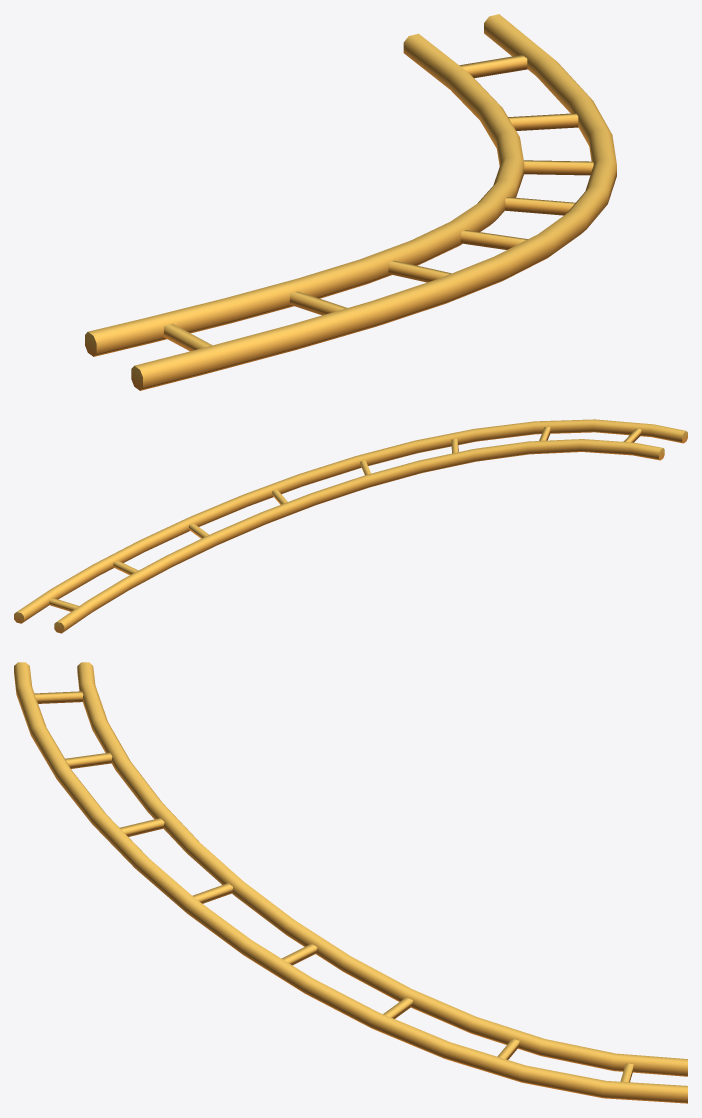
The model's file is coaster-mouse-corner-large-ramp.glb.
3 views of the same model, one above another, from view 1: azimuth 30°, elevation 25°; view 2: azimuth 150°, elevation 25°; view 3: azimuth 270°, elevation 25° (orthographic). The views are drawn at different scales.
Visible parts, largest first — view 1: coaster-mouse-corner-large-ramp; view 2: coaster-mouse-corner-large-ramp; view 3: coaster-mouse-corner-large-ramp.
Part boxes in pixels (x1,y1,x2,y2): coaster-mouse-corner-large-ramp: (85, 14, 616, 390); coaster-mouse-corner-large-ramp: (14, 419, 687, 633); coaster-mouse-corner-large-ramp: (14, 662, 687, 1103).
Size of the model in its own units: 4.25 by 1.1 by 4.25.
Materials: 1 (1 with a texture image).
